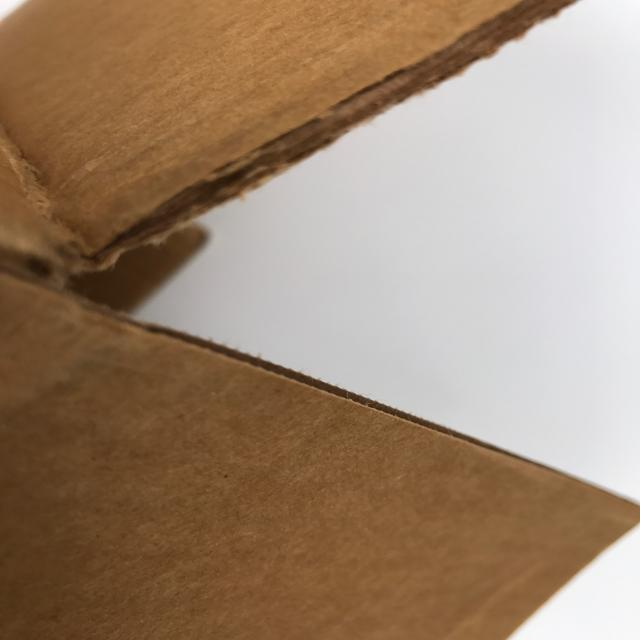cardboard: (1, 272, 639, 639), (1, 0, 581, 280)
